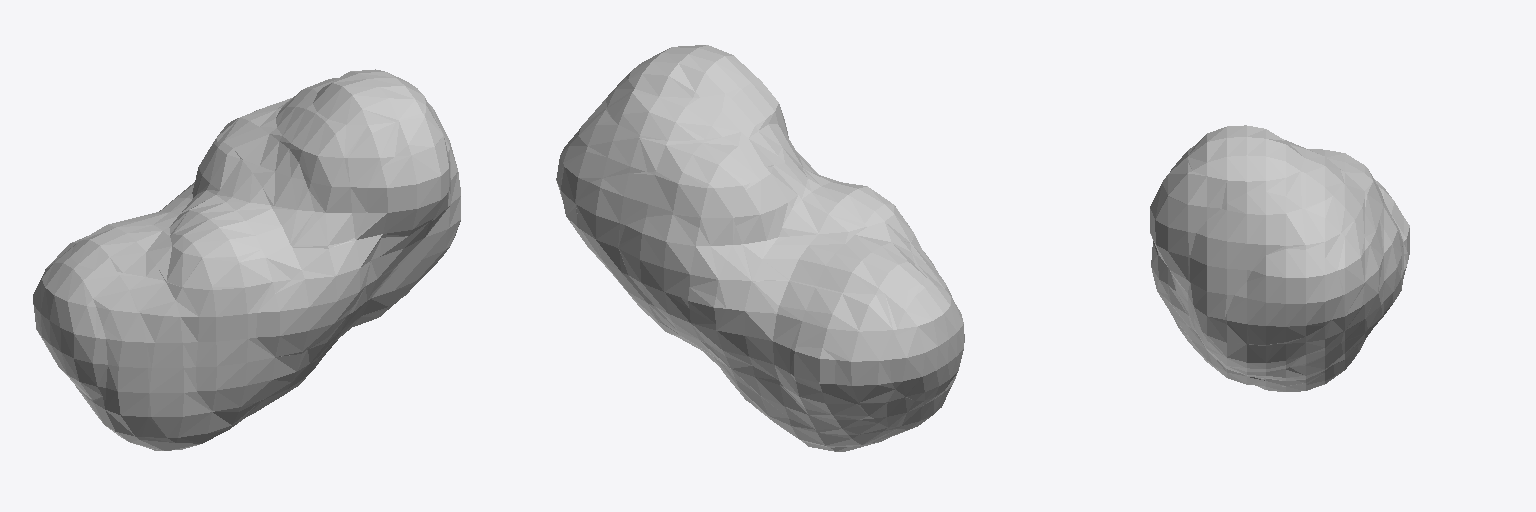
Rendered from 2ara_1_cms.obj.
3 renders of one model, left to right at view 1: azimuth 30°, elevation 25°; view 2: azimuth 150°, elevation 25°; view 3: azimuth 270°, elevation 25°, orthographic.
Size of the model in its own units: 91.29 by 74.75 by 53.15.